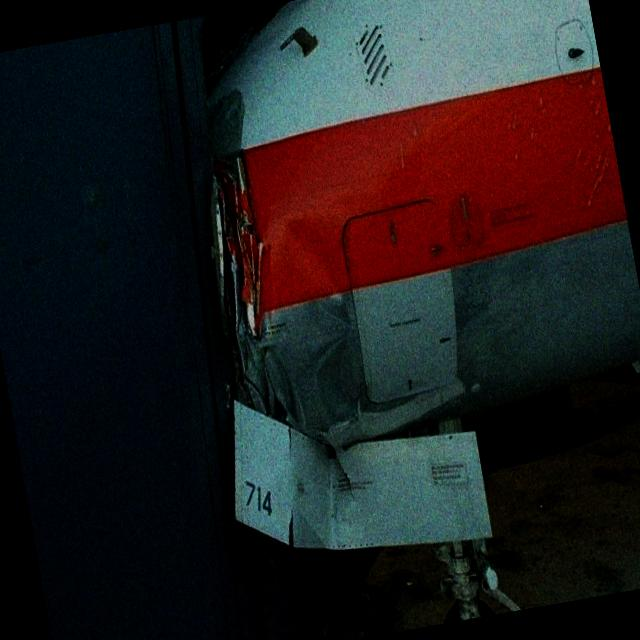dent: (284, 215, 372, 437)
